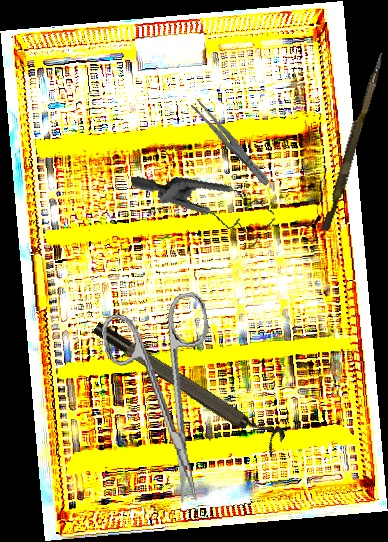Dressing Forceps: (188, 97, 274, 189)
Fixation Ring: (90, 310, 288, 458)
Iris Scissors: (97, 290, 239, 512)
Pusher: (321, 50, 385, 233)
Speculum: (130, 150, 281, 270)
